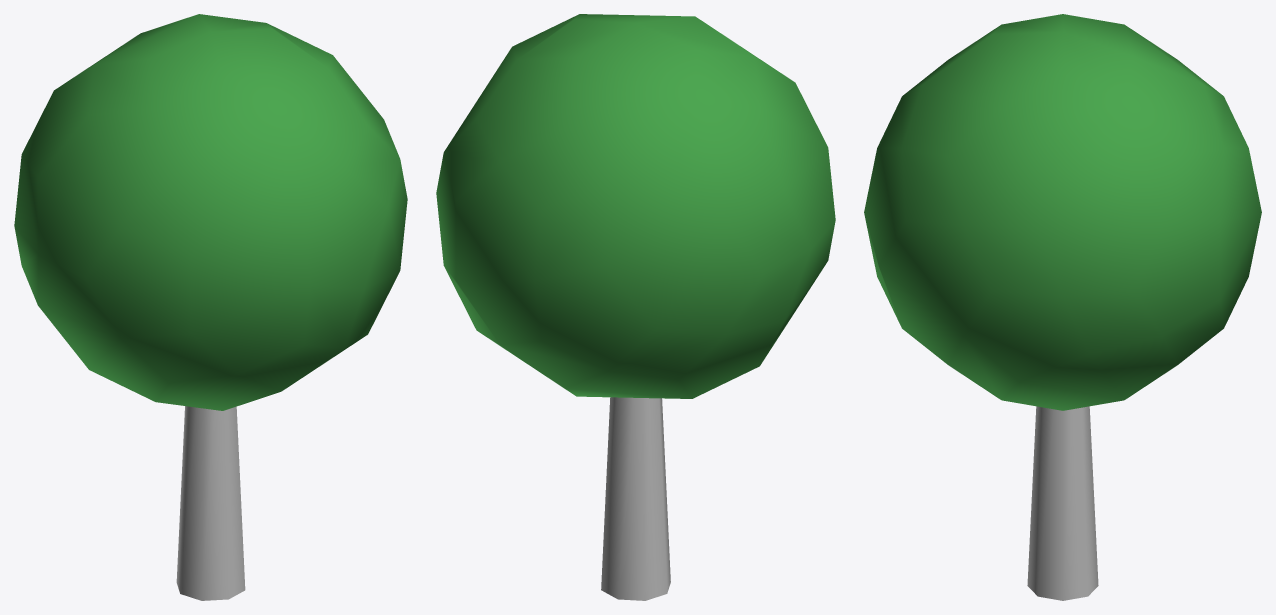
The model's file is tree_birch.glb.
3 renders of one model, left to right at view 1: azimuth 30°, elevation 25°; view 2: azimuth 150°, elevation 25°; view 3: azimuth 270°, elevation 25°, orthographic.
Bounding box in the file's own units: 5.6 × 8.6 × 5.6.
